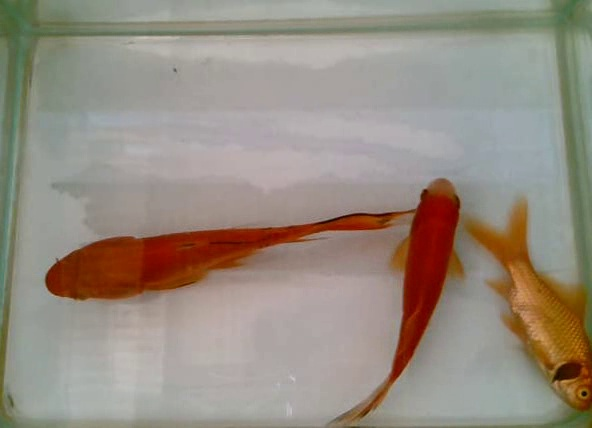alive_fish: (313, 173, 474, 428), (43, 206, 422, 309)
dead_fish: (458, 190, 592, 413)
